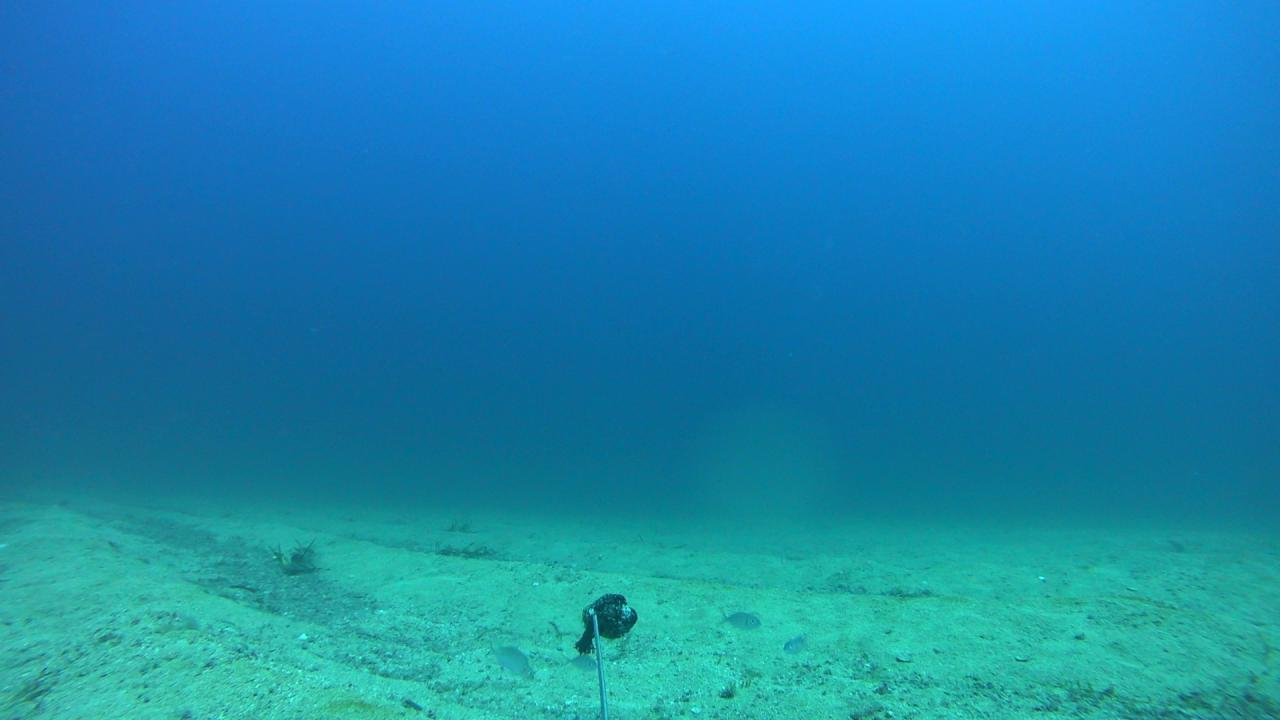pagellus: (485, 644, 539, 680), (718, 608, 762, 630), (560, 654, 595, 673), (785, 633, 812, 657)
